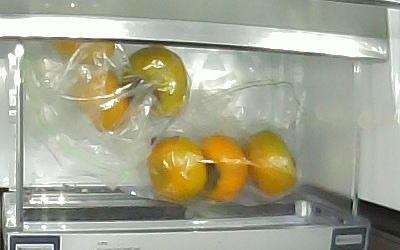persimmon: (50, 39, 117, 68)
persimmon_vinyl: (120, 46, 190, 119), (146, 135, 208, 203), (71, 69, 132, 132), (245, 131, 299, 196), (199, 134, 246, 202)
